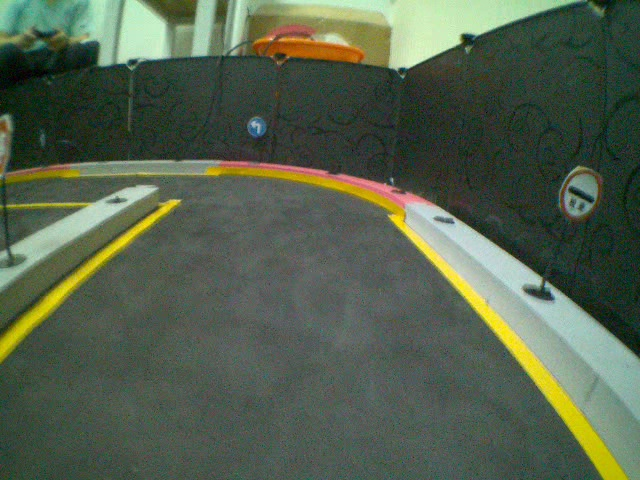Check: (558, 165, 603, 220)
turn: (247, 117, 266, 137)
